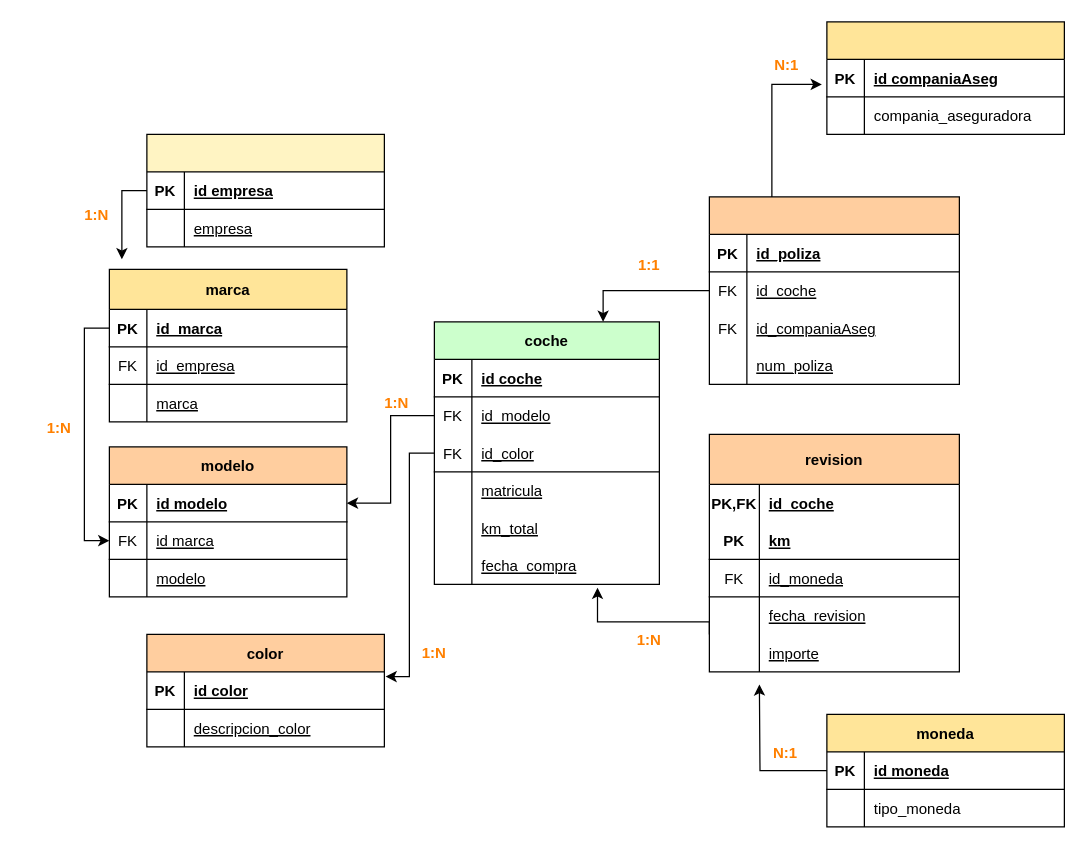
This 1086x849 diagram has some shape labels left out. Here are the shapes that lost their labels. From the top down, the box of each, then its label:
(826, 21, 1064, 134): empresaAseguradora
(146, 133, 384, 247): grupoEmpresarial
(708, 196, 959, 384): polizaCoche
